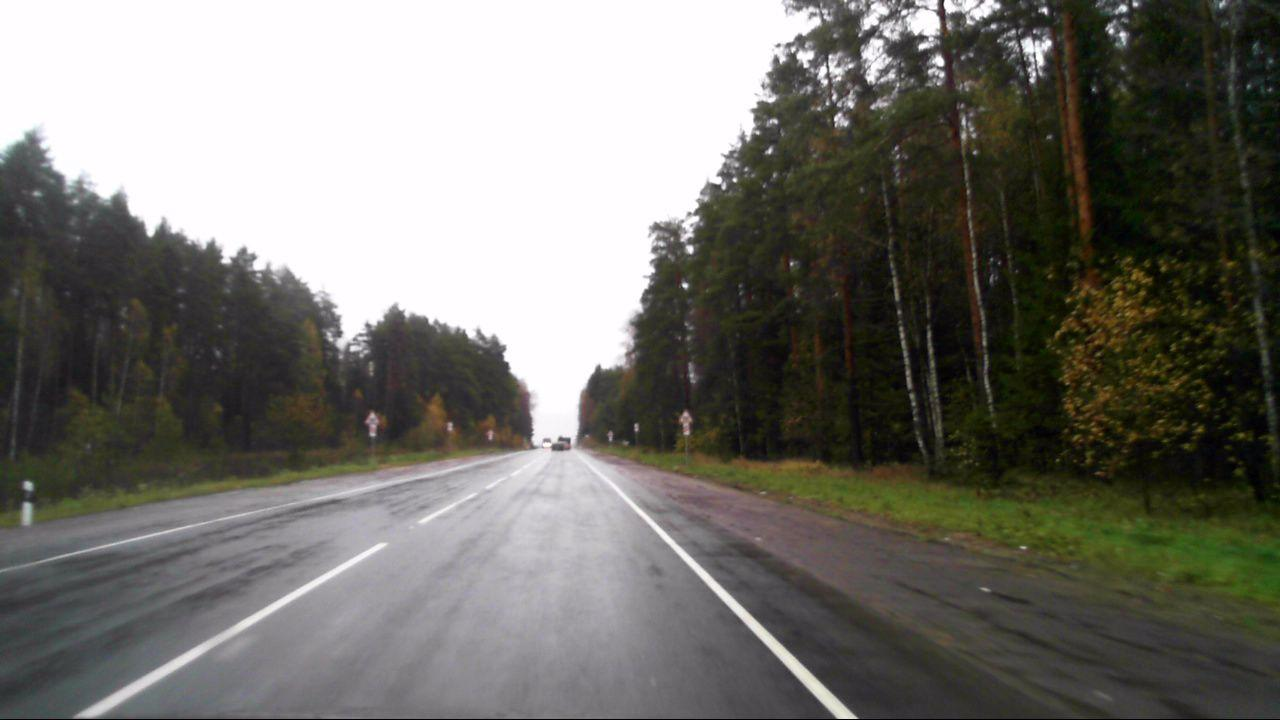1_1: (676, 406, 695, 424), (364, 409, 381, 425)
1_4_3: (682, 424, 690, 435), (609, 437, 613, 443)
1_4_6: (368, 424, 378, 437), (487, 430, 494, 441)
7_2: (447, 421, 455, 431)
